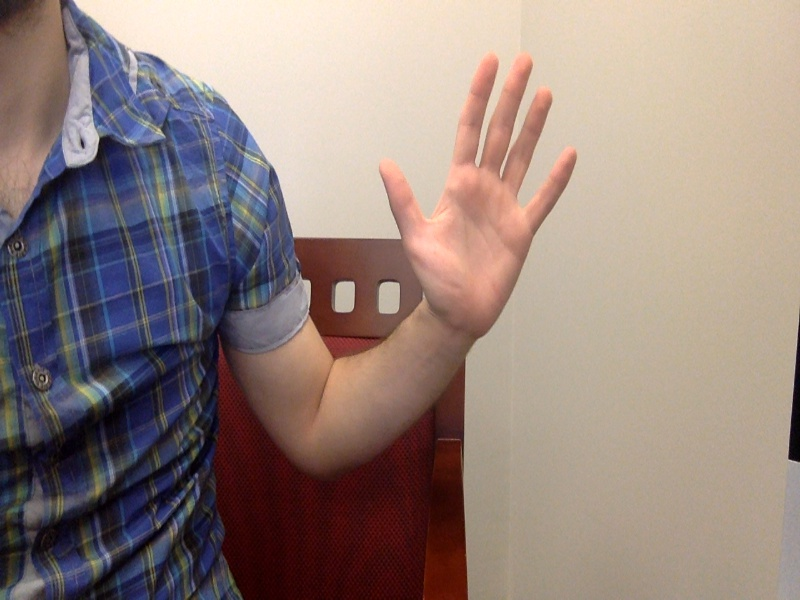5-hand: (377, 50, 579, 335)
